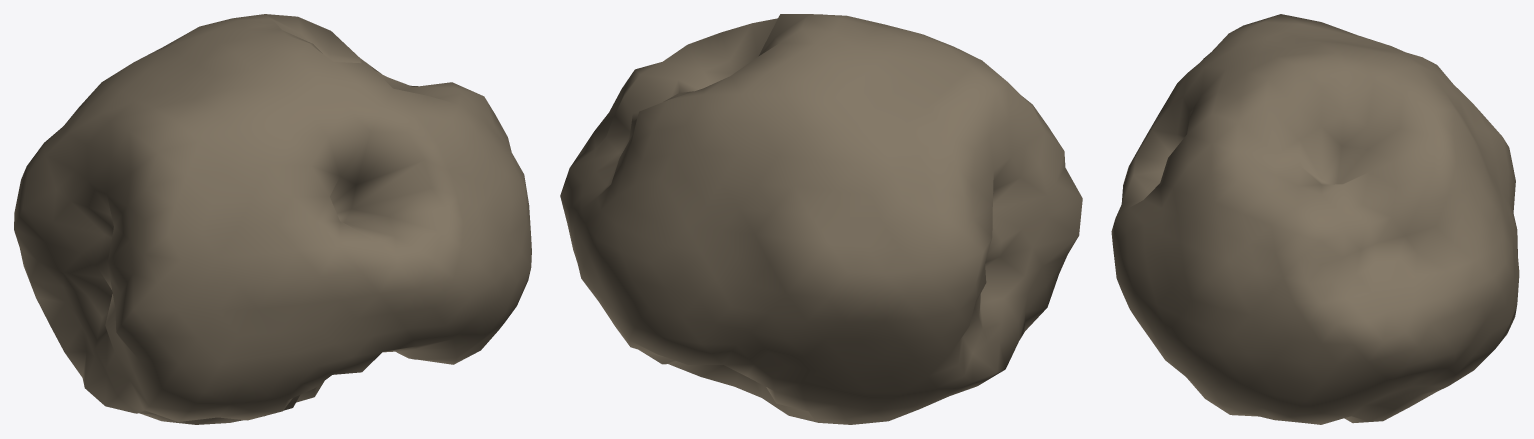
File: asteroid_01.glb
3 views of the same model, side by side, from view 1: azimuth 30°, elevation 25°; view 2: azimuth 150°, elevation 25°; view 3: azimuth 270°, elevation 25° (orthographic). The views are drawn at different scales.
Visible parts, largest first — view 1: Asteroid_01; view 2: Asteroid_01; view 3: Asteroid_01.
Part boxes in pixels (left/top/right/bottom): Asteroid_01: left=14, top=14, right=531, bottom=424; Asteroid_01: left=560, top=14, right=1082, bottom=424; Asteroid_01: left=1111, top=14, right=1519, bottom=424.
Bounding box in the file's own units: 1.87 × 1.47 × 1.59.
